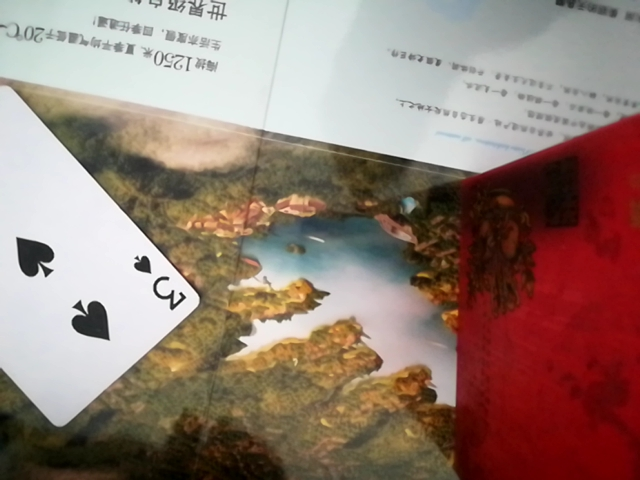ht 3: (3, 69, 189, 437)
